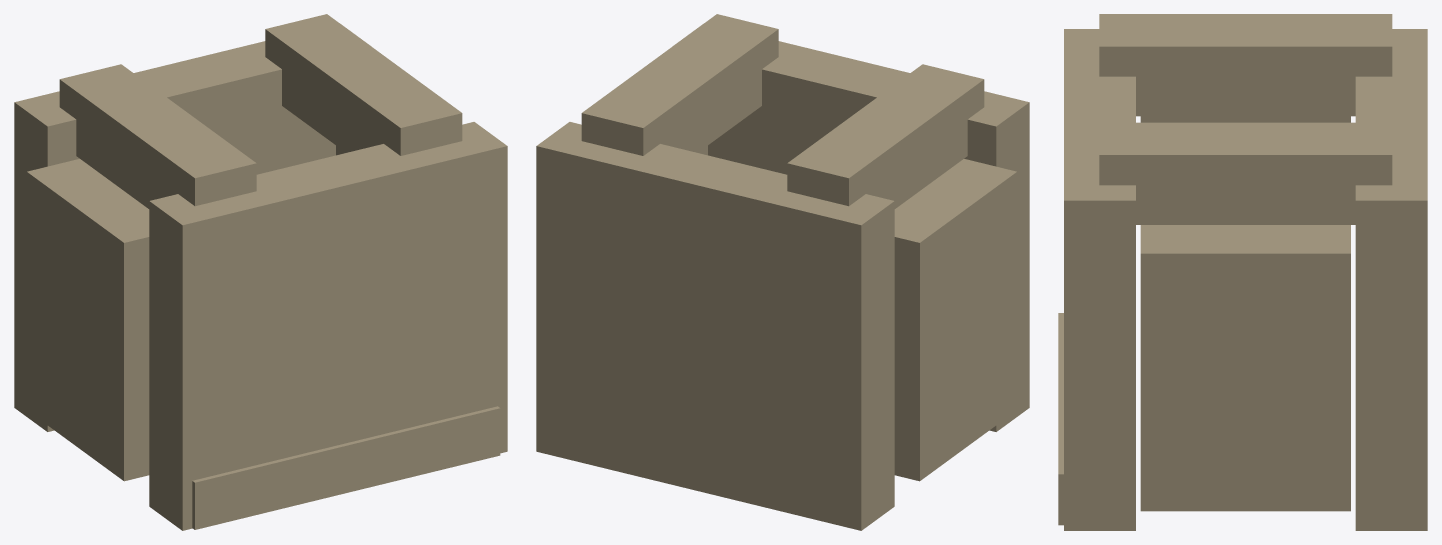
The model's file is Soviet_Vest.glb.
The picture shows the model from 3 angles, left to right: view 1: azimuth 30°, elevation 25°; view 2: azimuth 150°, elevation 25°; view 3: azimuth 270°, elevation 25°; orthographic projection. The views are drawn at different scales.
Parts seen in each view (by area): view 1: Soviet_Block_Body_Armor_Front_Plate, Soviet_Block_Body_Armor_Left_Side, Soviet_Block_Body_Armor_Back_Plate, Soviet_Block_Body_Armor_Left_Strap, Soviet_Block_Body_Armor_Right_Strap, Soviet_Block_Body_Armor_Lower_Edge; view 2: Soviet_Block_Body_Armor_Back_Plate, Soviet_Block_Body_Armor_Left_Side, Soviet_Block_Body_Armor_Front_Plate, Soviet_Block_Body_Armor_Left_Strap, Soviet_Block_Body_Armor_Right_Strap; view 3: Soviet_Block_Body_Armor_Right_Side, Soviet_Block_Body_Armor_Back_Plate, Soviet_Block_Body_Armor_Front_Plate, Soviet_Block_Body_Armor_Right_Strap, Soviet_Block_Body_Armor_Left_Strap, Soviet_Block_Body_Armor_Left_Side, Soviet_Block_Body_Armor_Lower_Edge.
Boxes of the visible parts, x1=… form: Soviet_Block_Body_Armor_Front_Plate: x1=149, y1=122, x2=507, y2=530; Soviet_Block_Body_Armor_Left_Side: x1=26, y1=159, x2=149, y2=481; Soviet_Block_Body_Armor_Back_Plate: x1=14, y1=24, x2=370, y2=431; Soviet_Block_Body_Armor_Left_Strap: x1=59, y1=64, x2=256, y2=208; Soviet_Block_Body_Armor_Right_Strap: x1=265, y1=14, x2=462, y2=155; Soviet_Block_Body_Armor_Lower_Edge: x1=192, y1=406, x2=500, y2=529; Soviet_Block_Body_Armor_Back_Plate: x1=536, y1=122, x2=894, y2=530; Soviet_Block_Body_Armor_Left_Side: x1=894, y1=159, x2=1017, y2=481; Soviet_Block_Body_Armor_Front_Plate: x1=673, y1=24, x2=1029, y2=431; Soviet_Block_Body_Armor_Left_Strap: x1=787, y1=64, x2=984, y2=208; Soviet_Block_Body_Armor_Right_Strap: x1=581, y1=14, x2=778, y2=155; Soviet_Block_Body_Armor_Right_Side: x1=1140, y1=225, x2=1350, y2=511; Soviet_Block_Body_Armor_Back_Plate: x1=1355, y1=29, x2=1427, y2=530; Soviet_Block_Body_Armor_Front_Plate: x1=1064, y1=29, x2=1135, y2=530; Soviet_Block_Body_Armor_Right_Strap: x1=1099, y1=122, x2=1392, y2=224; Soviet_Block_Body_Armor_Left_Strap: x1=1099, y1=14, x2=1392, y2=116; Soviet_Block_Body_Armor_Left_Side: x1=1140, y1=116, x2=1350, y2=122; Soviet_Block_Body_Armor_Lower_Edge: x1=1058, y1=313, x2=1063, y2=525.
Bounding box in the file's own units: 0.451 × 0.3875 × 0.3595.
